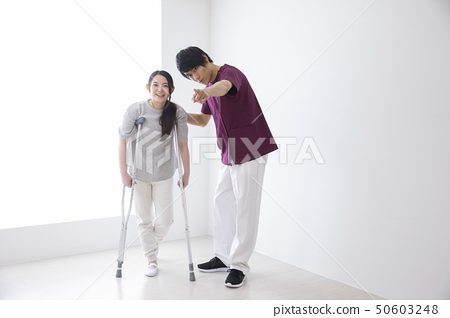crutches: (116, 70, 195, 282)
